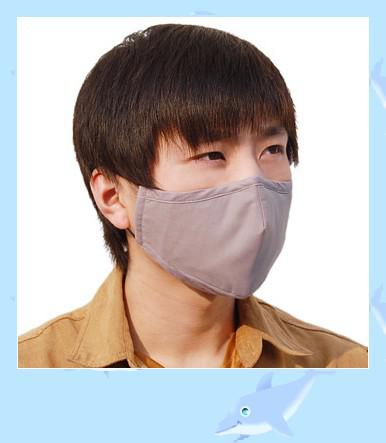OK: (127, 128, 293, 294)
